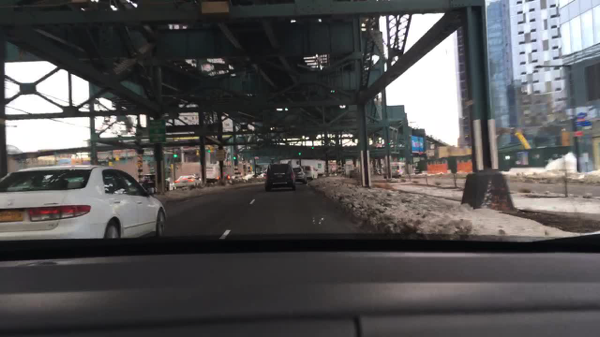car: (0, 165, 172, 241), (263, 160, 296, 192), (129, 173, 169, 197), (172, 174, 202, 188), (292, 164, 310, 185), (205, 162, 221, 183), (385, 163, 404, 178), (301, 166, 319, 180), (242, 174, 258, 183), (228, 174, 240, 181), (258, 173, 265, 177)
traffic light: (310, 142, 315, 150), (172, 152, 178, 158), (206, 146, 211, 153), (116, 155, 121, 162), (233, 153, 237, 160), (108, 162, 111, 167), (298, 151, 301, 155)
traffic sign: (148, 119, 168, 144), (576, 111, 586, 122), (579, 122, 591, 130), (572, 132, 585, 136)
